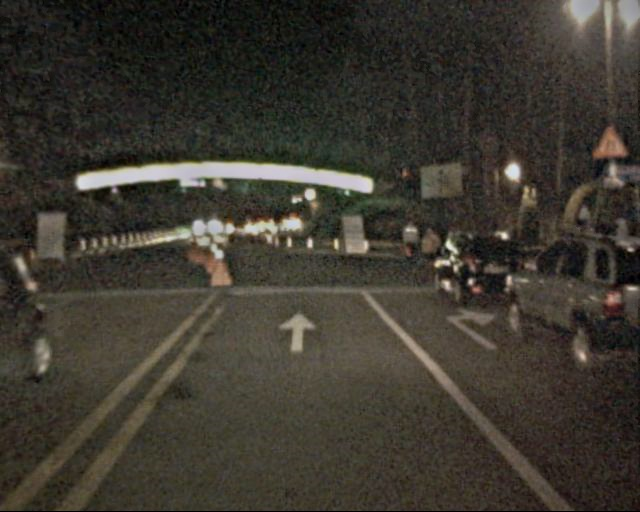person: (417, 227, 442, 289), (400, 217, 421, 268)
